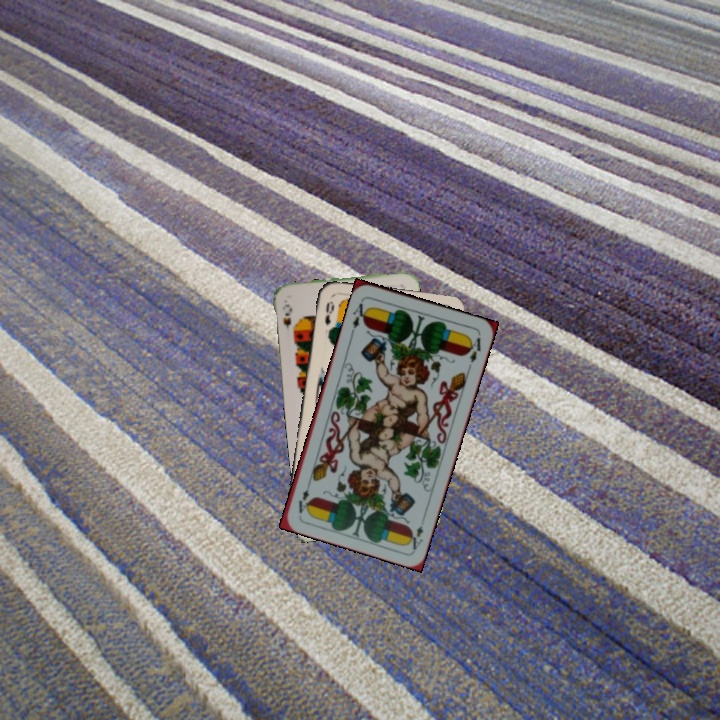EA: (347, 299, 371, 336), (404, 521, 426, 552)
EO: (320, 297, 337, 328)
S9: (278, 300, 295, 332)
